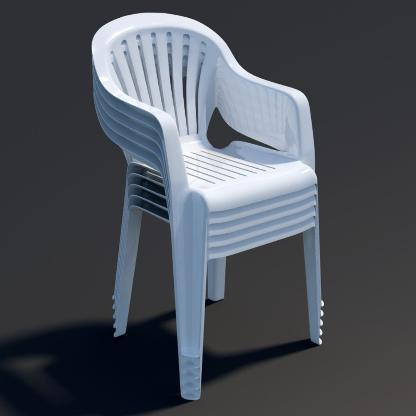chair: (87, 6, 336, 401)
